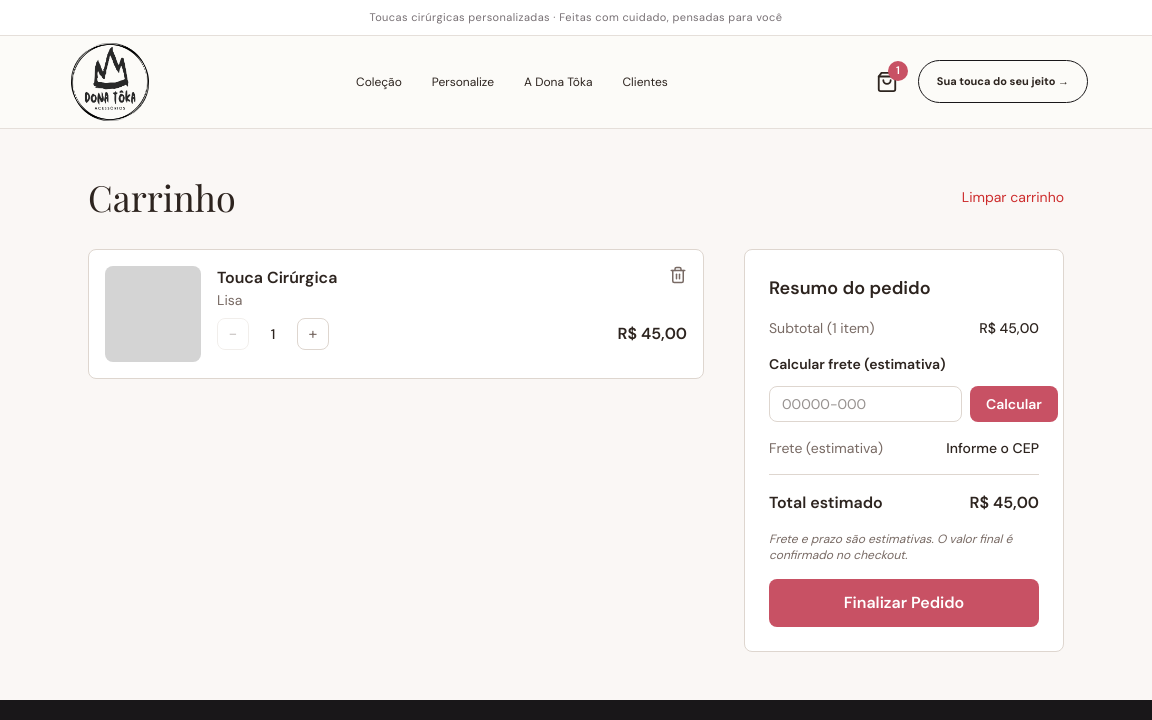
Test: Cart freight estimator › shows freight and estimated days after entering a valid CEP
Expected: the text "Touca Cirúrgica" is shown, 217,266 -> 337,290
Type "01310100" into the field named "cep para estimativa de frete" at (866, 404), box 769,386 -> 962,422
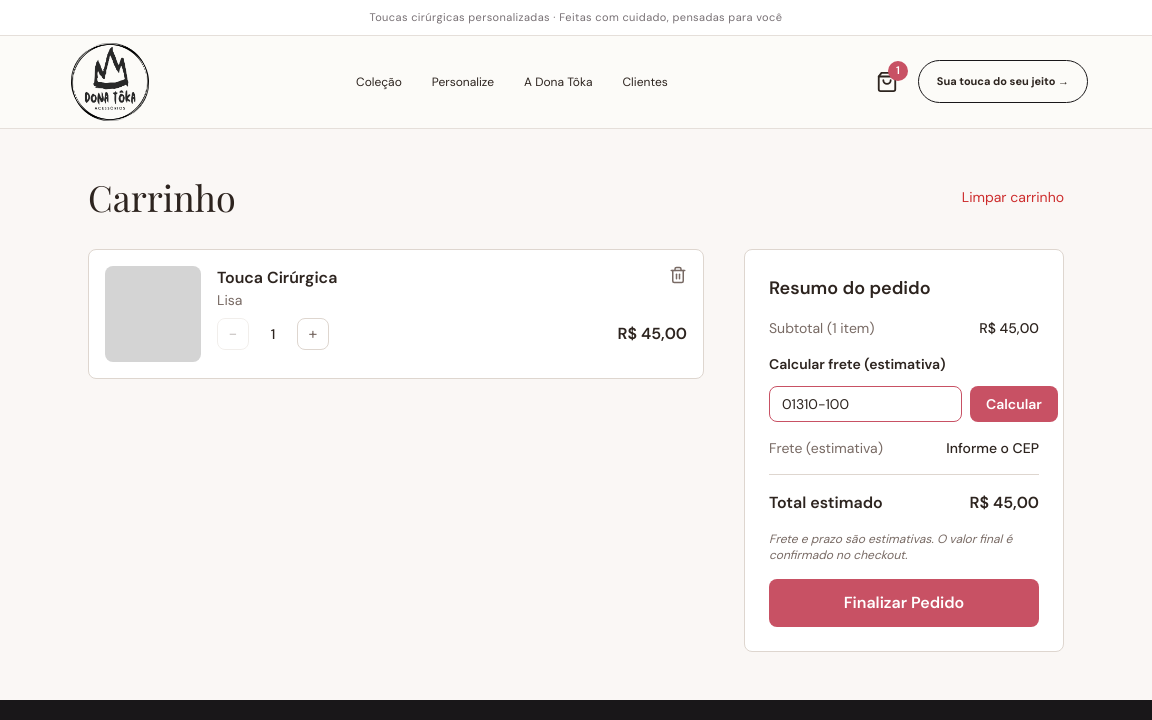
Click the button "Calcular" at (1014, 404), box 970,386 -> 1058,422
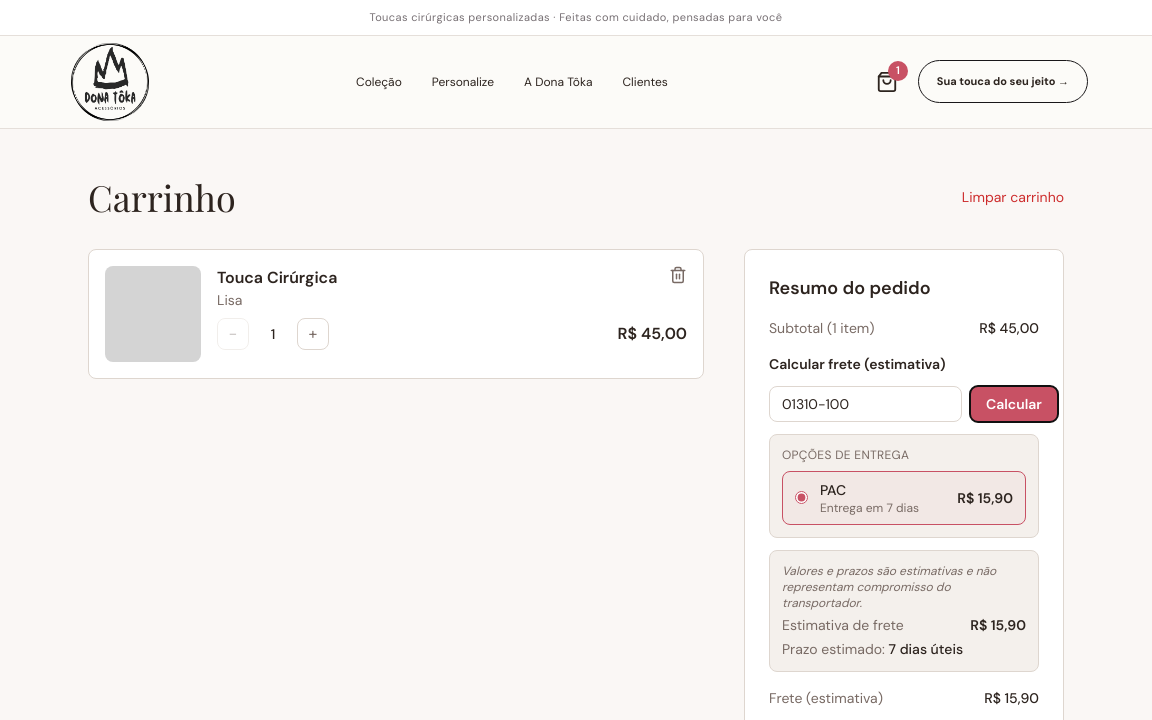
Expected: the message is shown, 769,550 -> 1039,672
Expected: the text "7 dias úteis" is shown, 889,640 -> 963,658
